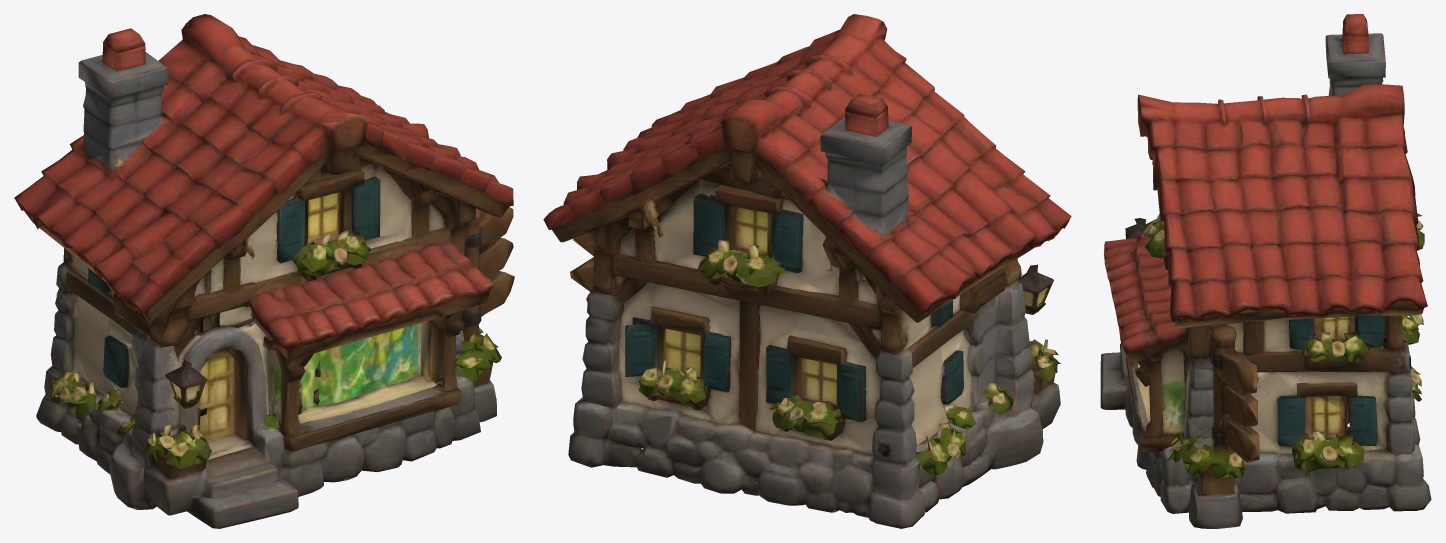
The picture shows the model from 3 angles, left to right: view 1: azimuth 30°, elevation 25°; view 2: azimuth 150°, elevation 25°; view 3: azimuth 270°, elevation 25°; orthographic projection. The views are drawn at different scales.
Visible parts, largest first — view 1: alpine__junction_hub__native_mobile; view 2: alpine__junction_hub__native_mobile; view 3: alpine__junction_hub__native_mobile.
Part boxes in pixels (x1,y1,x2,y2): alpine__junction_hub__native_mobile: (14,14,514,528); alpine__junction_hub__native_mobile: (543,14,1071,528); alpine__junction_hub__native_mobile: (1100,14,1431,528).
Size of the model in its own units: 1 by 0.8602 by 0.689.
1 material, 1 textured.
